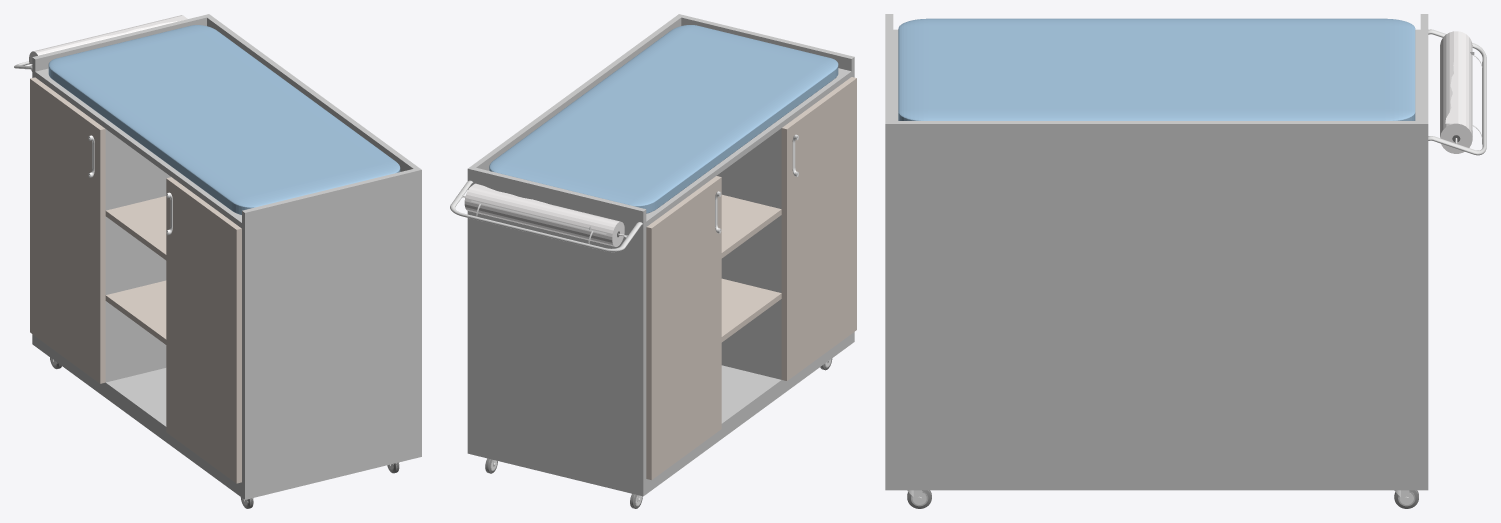
The model's file is Crib.fbx.
3 renders of one model, left to right at view 1: azimuth 30°, elevation 25°; view 2: azimuth 150°, elevation 25°; view 3: azimuth 270°, elevation 25°, orthographic. The views are drawn at different scales.
Parts seen in each view (by area): view 1: Component_1_001, Group_001, Component_1_010, Component_1_009, Component_1_005, Group_002, Component_1_003, Component_1_004, Component_1_008, Component_1_007, Component_1_002, Group_007; view 2: Component_1_002, Group_001, Component_1_010, Component_1_009, Component_1_006, Group_002, Group_007, Component_1_003, Component_1_004, Component_1_008, Component_1_007, Component_1_001 (+1 smaller); view 3: Component_1_003, Group_001, Group_002, Component_1_002, Component_1_001, Group_007, Component_1_004, Group_005.
Boxes of the visible parts, left/top/right/bottom form: Component_1_001: left=242, top=167, right=421, bottom=484; Group_001: left=48, top=25, right=400, bottom=214; Component_1_010: left=30, top=77, right=105, bottom=383; Component_1_009: left=166, top=177, right=241, bottom=483; Component_1_005: left=105, top=129, right=170, bottom=382; Group_002: left=32, top=334, right=421, bottom=499; Component_1_003: left=207, top=16, right=418, bottom=171; Component_1_004: left=35, top=68, right=241, bottom=228; Component_1_008: left=105, top=196, right=166, bottom=260; Component_1_007: left=105, top=280, right=166, bottom=344; Component_1_002: left=32, top=14, right=211, bottom=77; Group_007: left=25, top=15, right=187, bottom=71; Component_1_002: left=467, top=166, right=646, bottom=480; Group_001: left=489, top=25, right=838, bottom=213; Component_1_010: left=646, top=176, right=721, bottom=480; Component_1_009: left=781, top=77, right=856, bottom=380; Component_1_006: left=716, top=128, right=781, bottom=379; Group_002: left=467, top=332, right=854, bottom=496; Group_007: left=461, top=183, right=627, bottom=246; Component_1_003: left=471, top=16, right=681, bottom=170; Component_1_004: left=489, top=68, right=851, bottom=226; Component_1_008: left=721, top=194, right=781, bottom=258; Component_1_007: left=721, top=278, right=781, bottom=342; Component_1_001: left=676, top=14, right=854, bottom=77; Component_1_003: left=893, top=121, right=1420, bottom=470; Group_001: left=898, top=18, right=1415, bottom=120; Group_002: left=885, top=470, right=1428, bottom=490; Component_1_002: left=1420, top=14, right=1428, bottom=470; Component_1_001: left=885, top=14, right=893, bottom=470; Group_007: left=1440, top=31, right=1472, bottom=153; Component_1_004: left=893, top=29, right=1420, bottom=120; Group_005: left=1428, top=29, right=1486, bottom=155.
Bounding box in the file's own units: 63.5 × 100 × 138.
